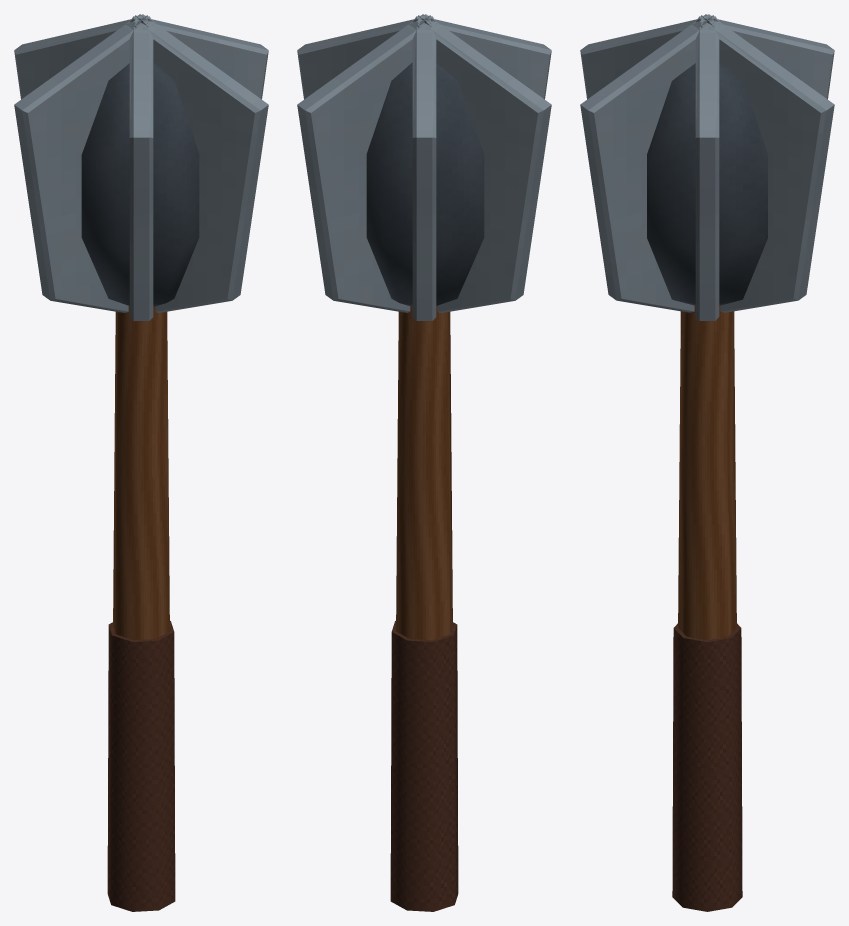
The model's file is flanged-mace.lod2.glb.
3 views of the same model, side by side, from view 1: azimuth 30°, elevation 25°; view 2: azimuth 150°, elevation 25°; view 3: azimuth 270°, elevation 25° (orthographic).
Parts seen in each view (by area): view 1: leather.1, iron.3, wood.0, steel.9, steel.7, steel.8, steel.6, steel.4; view 2: leather.1, iron.3, wood.0, steel.5, steel.7, steel.6, steel.4, steel.8; view 3: leather.1, iron.3, wood.0, steel.9, steel.5, steel.4, steel.8, steel.6.
Boxes of the visible parts, bbox=[...] form: leather.1: bbox=[107, 621, 175, 911]; iron.3: bbox=[81, 62, 199, 306]; wood.0: bbox=[113, 306, 169, 640]; steel.9: bbox=[135, 14, 268, 312]; steel.7: bbox=[14, 14, 147, 312]; steel.8: bbox=[129, 16, 153, 320]; steel.6: bbox=[14, 15, 147, 99]; steel.4: bbox=[135, 15, 268, 99]; leather.1: bbox=[390, 621, 458, 911]; iron.3: bbox=[366, 62, 484, 306]; wood.0: bbox=[396, 306, 452, 640]; steel.5: bbox=[297, 14, 430, 312]; steel.7: bbox=[418, 14, 551, 312]; steel.6: bbox=[412, 16, 436, 320]; steel.4: bbox=[297, 15, 430, 99]; steel.8: bbox=[418, 15, 551, 99]; leather.1: bbox=[672, 623, 742, 911]; iron.3: bbox=[647, 63, 767, 305]; wood.0: bbox=[678, 306, 736, 640]; steel.9: bbox=[580, 14, 713, 312]; steel.5: bbox=[701, 14, 834, 312]; steel.4: bbox=[695, 16, 719, 320]; steel.8: bbox=[580, 15, 713, 99]; steel.6: bbox=[701, 15, 834, 99].
Bounding box in the file's own units: 0.2683 × 0.9145 × 0.2398.
5 materials, 5 textured.
